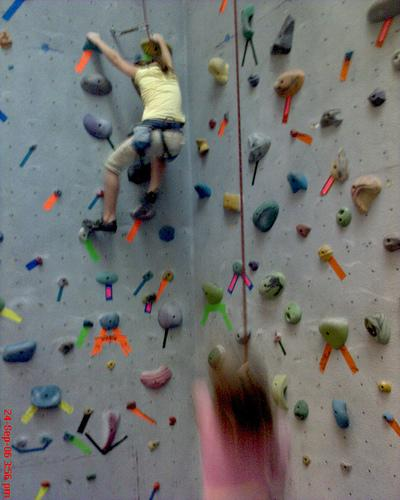person: (82, 30, 186, 234)
